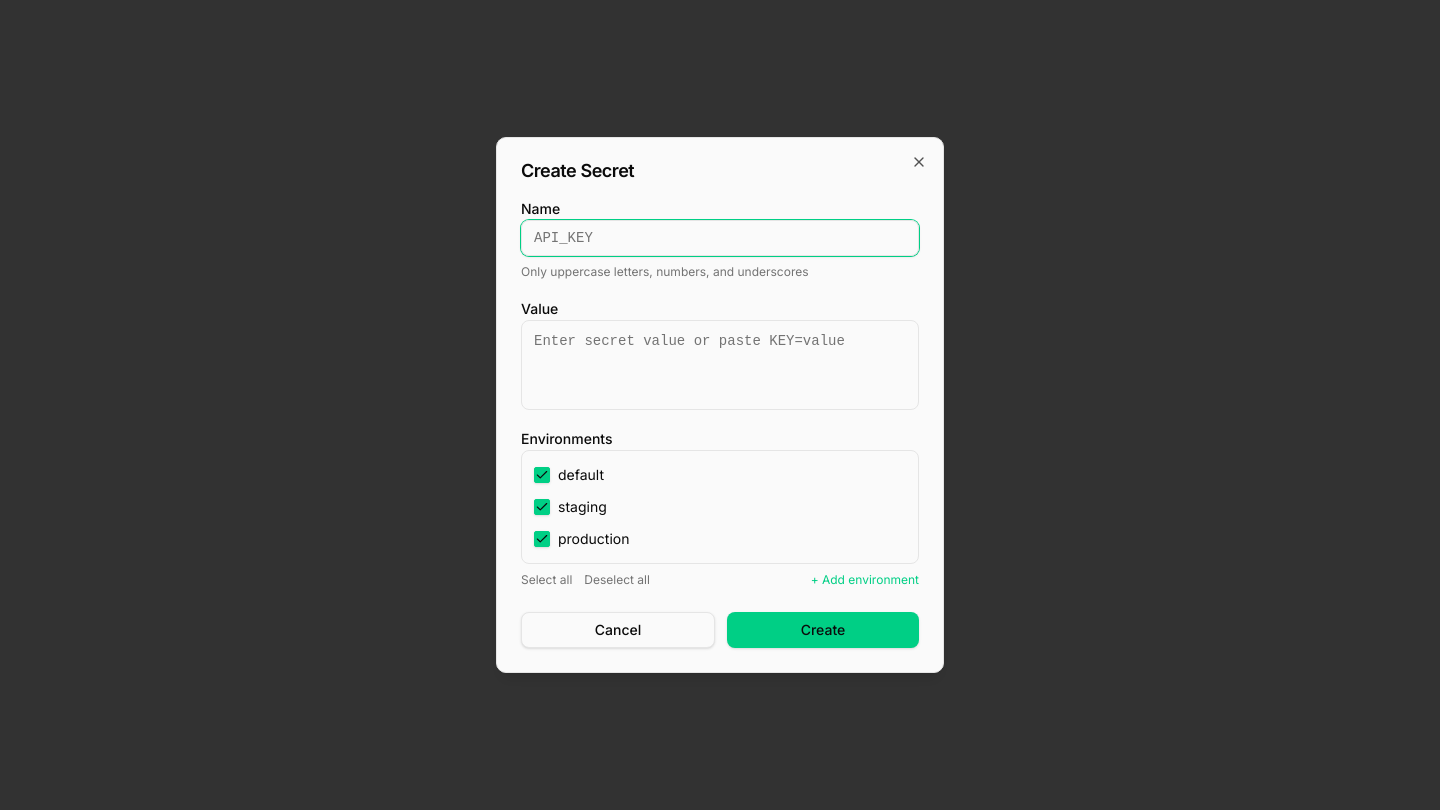
Test: SecretModal › add new environment › should show input when clicking add environment
Click the button "+ Add environment". click: (865,580)
box: left=811, top=572, right=919, bottom=588
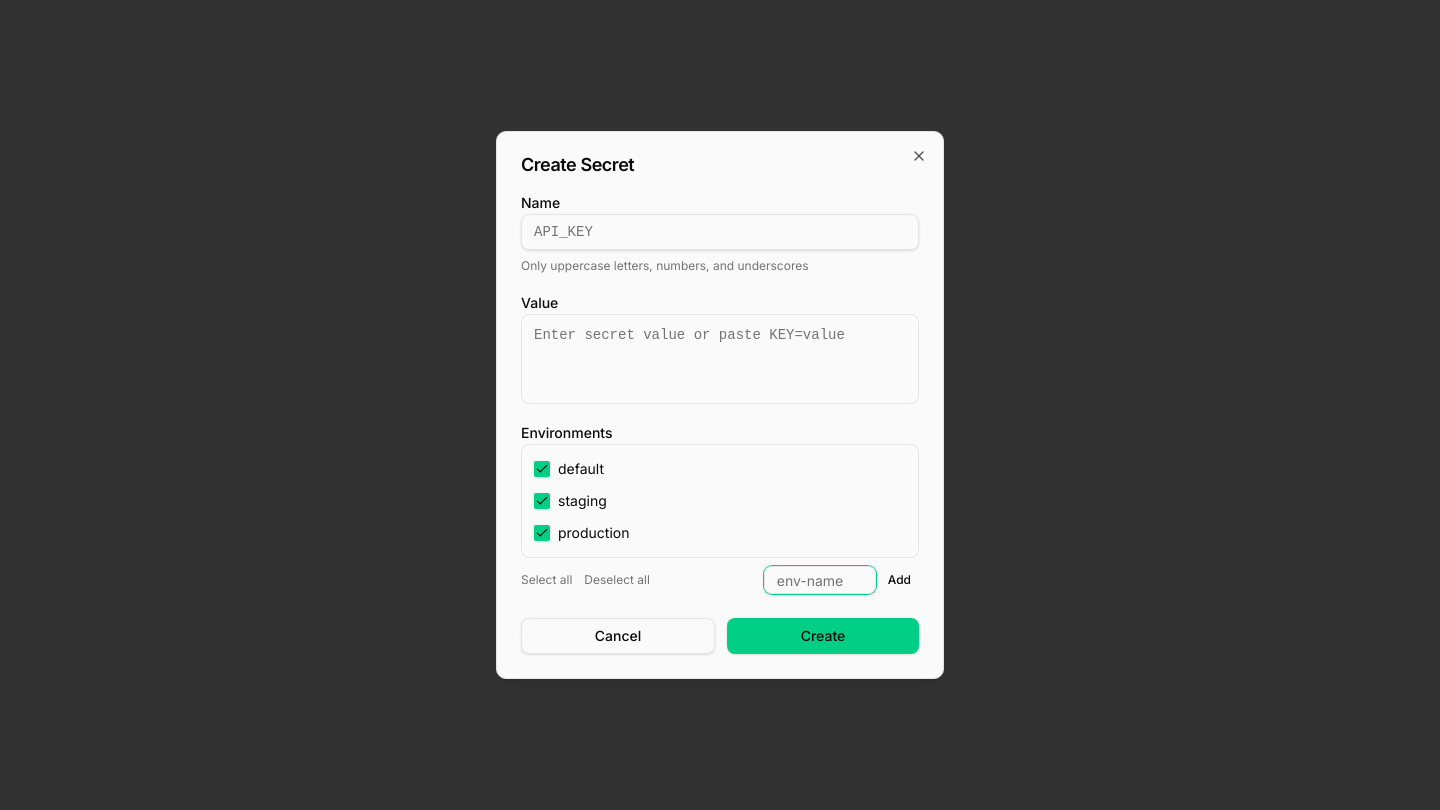
expect the button "Add" is shown: met, box left=880, top=566, right=919, bottom=594
expect the field with placeholder "env-name" is shown: met, box left=764, top=566, right=876, bottom=594
